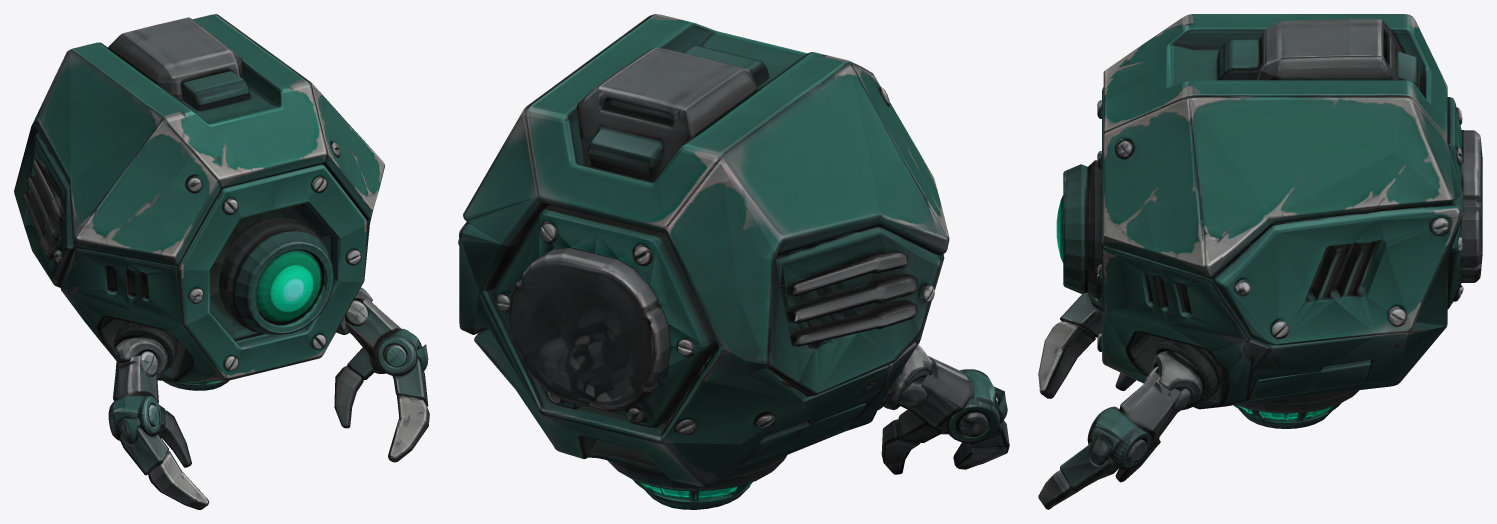
File: Modle_Enemy_Grunt.fbx
3 renders of one model, left to right at view 1: azimuth 30°, elevation 25°; view 2: azimuth 150°, elevation 25°; view 3: azimuth 270°, elevation 25°, orthographic. The views are drawn at different scales.
Visible parts, largest first — view 1: body.002, l-handbase, r-handbase, r-arm, l-arm; view 2: body.002, r-handbase, r-arm; view 3: body.002, l-handbase, r-handbase, l-arm.
Boxes of the visible parts, box(x1,y1,x2,y2) form: body.002: box(14, 14, 384, 390); l-handbase: box(334, 328, 429, 462); r-handbase: box(108, 390, 209, 509); r-arm: box(113, 355, 158, 401); l-arm: box(346, 298, 401, 353); body.002: box(458, 14, 949, 509); r-handbase: box(881, 369, 1009, 474); r-arm: box(899, 355, 972, 427); body.002: box(1056, 14, 1482, 428); l-handbase: box(1038, 404, 1160, 509); r-handbase: box(1038, 292, 1136, 398); l-arm: box(1121, 371, 1181, 440).
Size of the model in its own units: 1.01 by 1.1 by 1.06.
